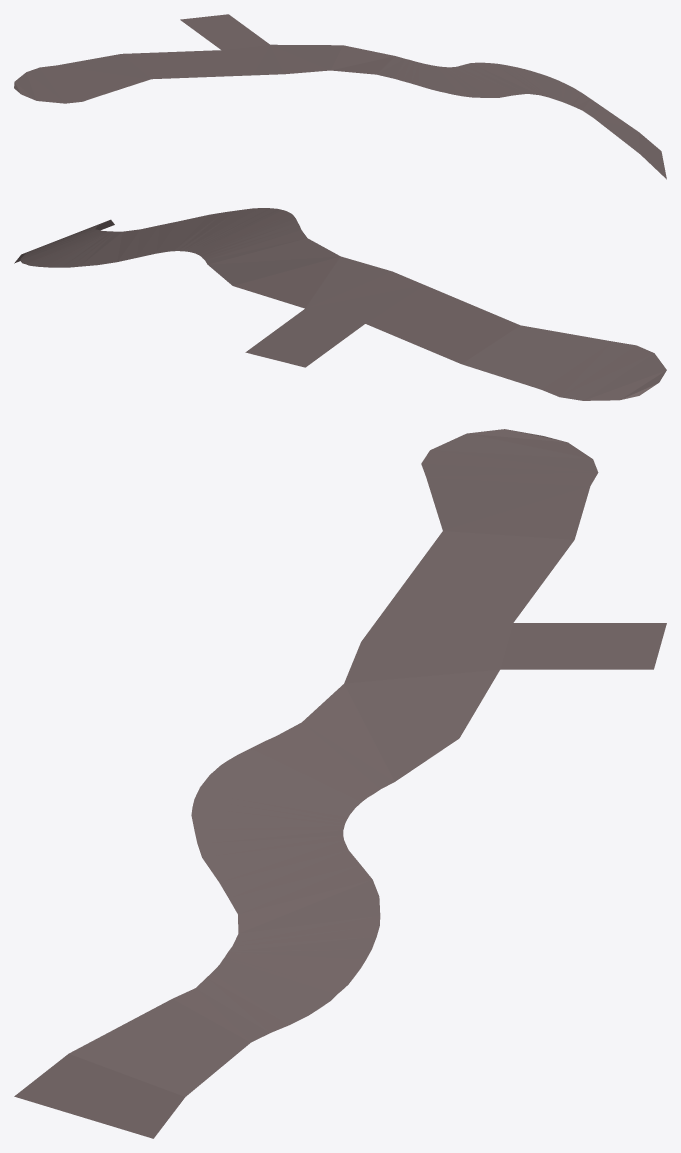
The model's file is Path01.obj.
3 renders of one model, top to bottom at view 1: azimuth 30°, elevation 25°; view 2: azimuth 150°, elevation 25°; view 3: azimuth 270°, elevation 25°, orthographic. The views are drawn at different scales.
Visible parts, largest first — view 1: EntrancewAY_Plane.004; view 2: EntrancewAY_Plane.004; view 3: EntrancewAY_Plane.004.
Boxes of the visible parts, <box> form: EntrancewAY_Plane.004: <box>14,14,666,179</box>; EntrancewAY_Plane.004: <box>14,208,666,400</box>; EntrancewAY_Plane.004: <box>14,429,666,1138</box>.
Bounding box in the file's own units: 22.61 × 4.75 × 12.75.
1 material, 1 textured.
